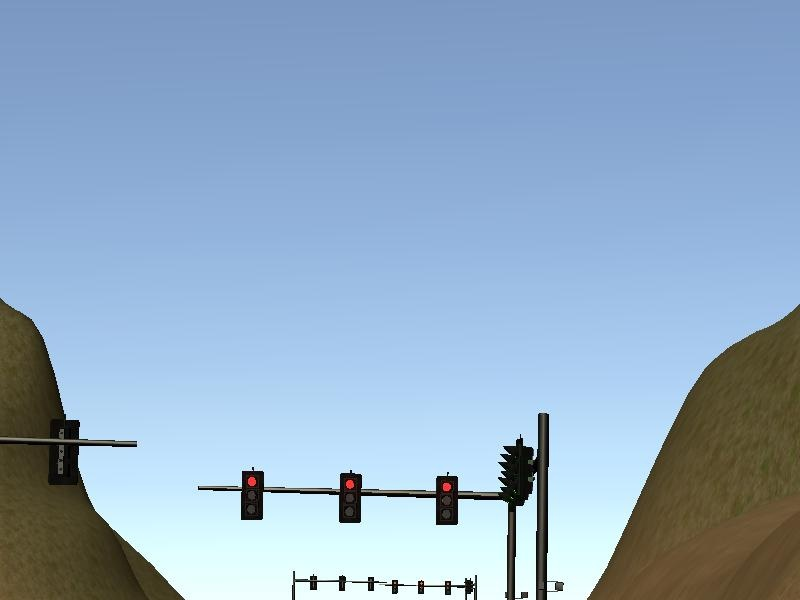red: (240, 470, 265, 518), (339, 473, 361, 523), (437, 474, 457, 527)
